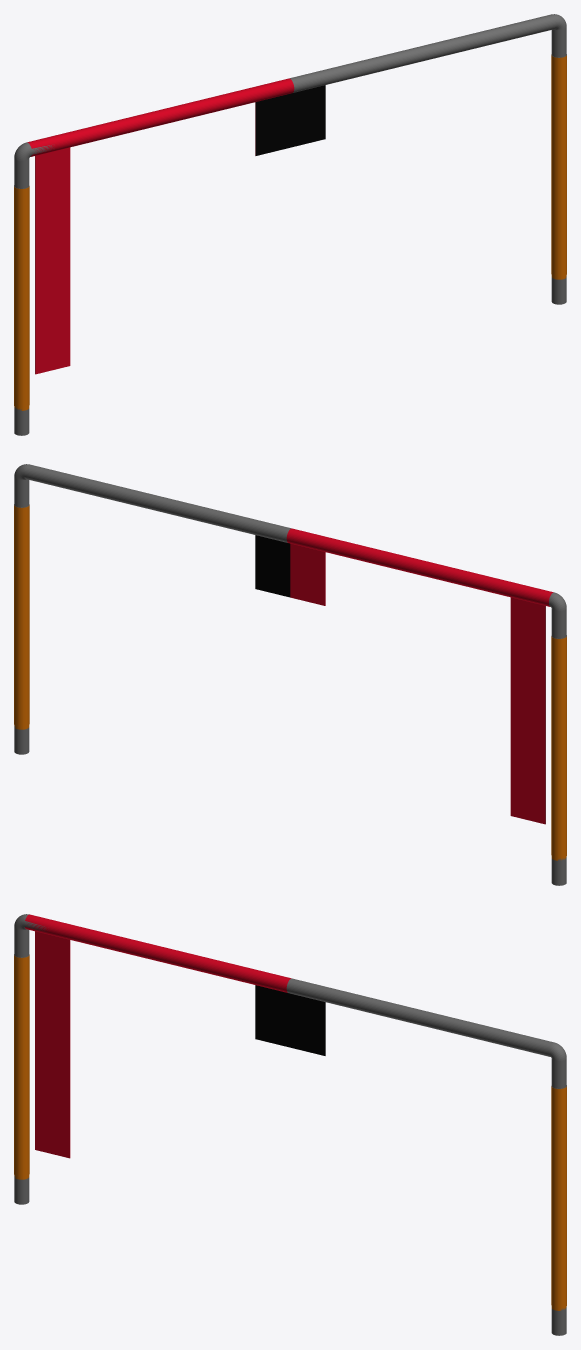
Rendered from gate.fbx.
The picture shows the model from 3 angles, top to bottom: view 1: azimuth 30°, elevation 25°; view 2: azimuth 150°, elevation 25°; view 3: azimuth 330°, elevation 25°; orthographic projection.
Visible parts, largest first — view 1: Brama, Brama.001; view 2: Brama; view 3: Brama, Brama.001.
Part boxes in pixels (bbox=[...]): Brama: bbox=[14, 14, 566, 435]; Brama.001: bbox=[255, 85, 325, 155]; Brama: bbox=[14, 464, 566, 885]; Brama: bbox=[14, 914, 566, 1335]; Brama.001: bbox=[255, 985, 325, 1055].
Size of the model in its own units: 320 by 160 by 7.82.
